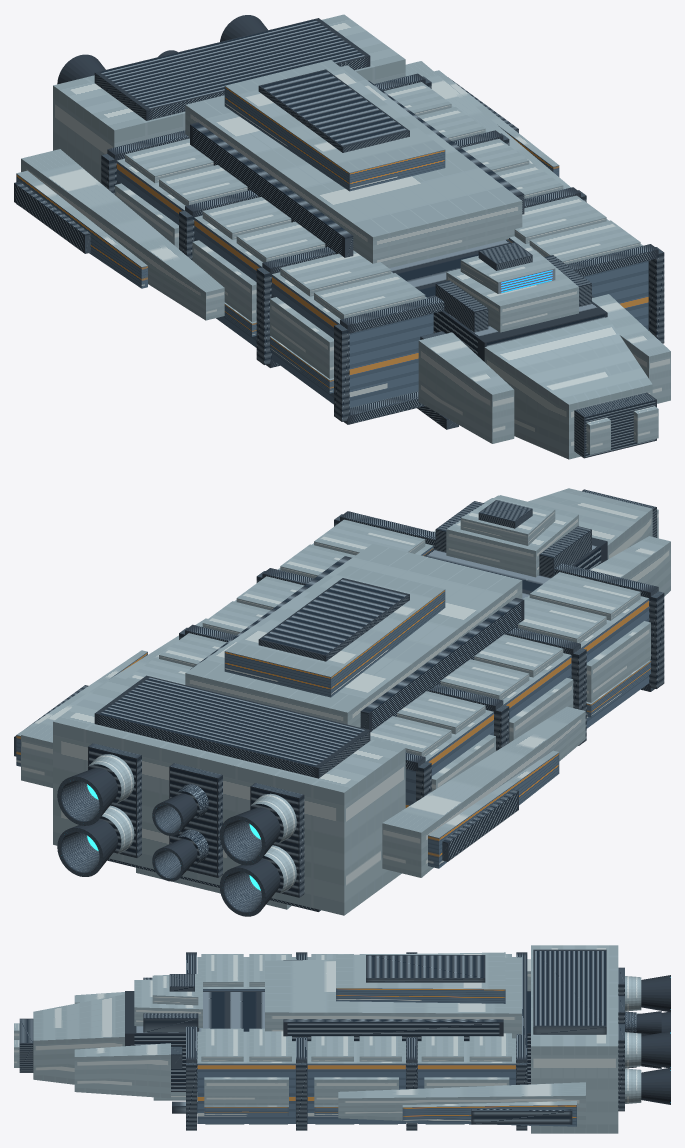
The model's file is space_colony_ship.glb.
3 renders of one model, top to bottom at view 1: azimuth 30°, elevation 25°; view 2: azimuth 150°, elevation 25°; view 3: azimuth 270°, elevation 25°, orthographic. The views are drawn at different scales.
Visible parts, largest first — view 1: SpaceColonyShip; view 2: SpaceColonyShip; view 3: SpaceColonyShip.
Boxes of the visible parts, x1,y1,x2,y2 form: SpaceColonyShip: (14, 14, 670, 459); SpaceColonyShip: (14, 488, 670, 916); SpaceColonyShip: (14, 945, 670, 1133).
Size of the model in its own units: 15.5 by 6.3 by 28.64.
Materials: 1 (1 with a texture image).
